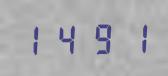four: (51, 20, 83, 56)
nine: (84, 19, 116, 55)
one: (18, 21, 50, 56), (117, 19, 149, 54)
